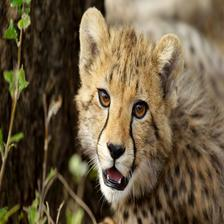Cheetah: (72, 6, 224, 222)
